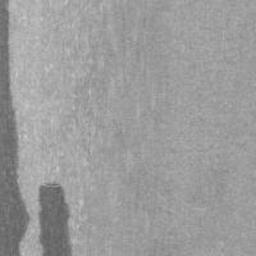Water spot: (0, 0, 31, 256), (36, 179, 74, 256)
